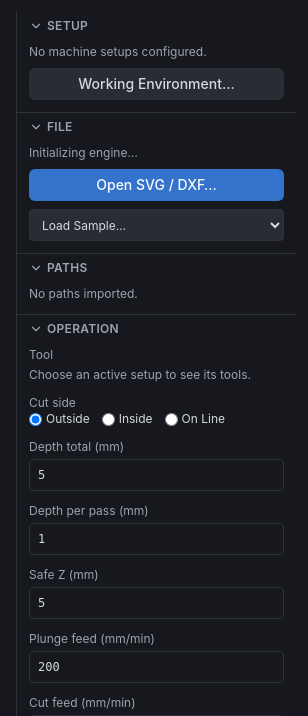
Test case: Mode2ProfileMode › surfaces a sample fetch failure as a red alert
Select "Star (SVG)" in the dropdown named "Load Sample" at (156,225), box [29,209,284,241]
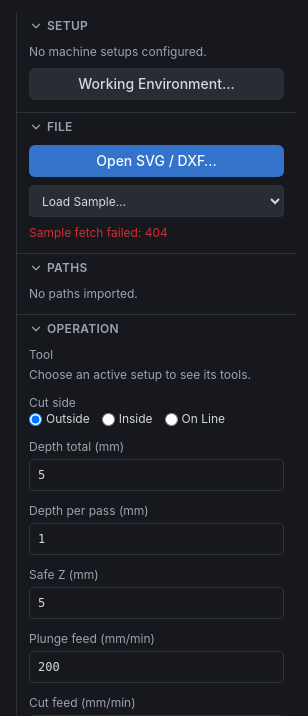
Check: the message reads "Sample fetch failed: 404", box [29,225,168,240]
